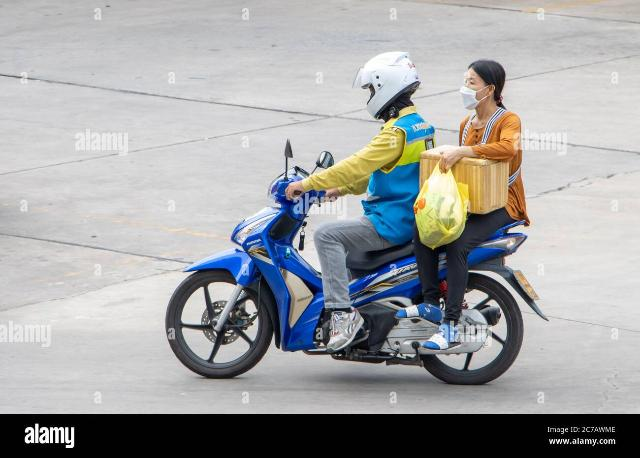helm: (355, 52, 422, 118)
motor: (167, 135, 525, 385)
non-helm: (463, 62, 506, 111)
